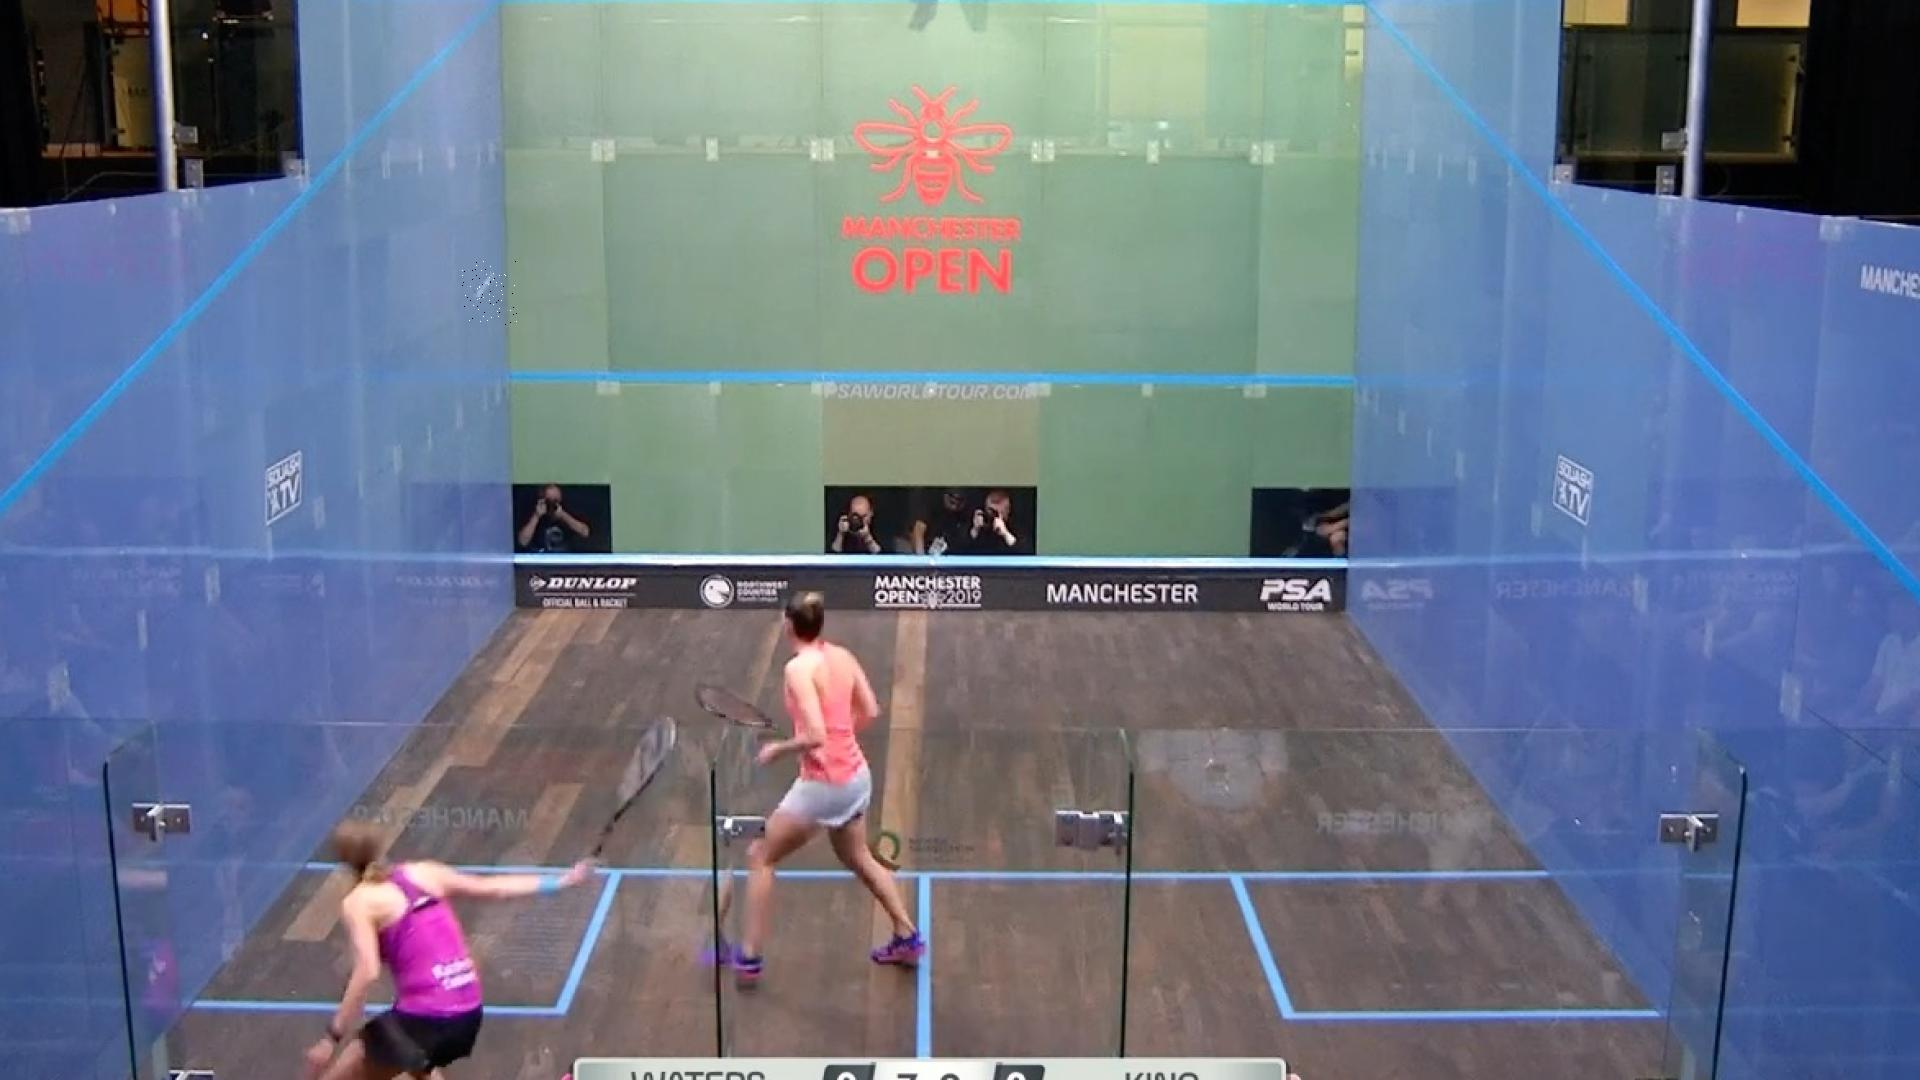Squash-Ball: (462, 258, 517, 326)
